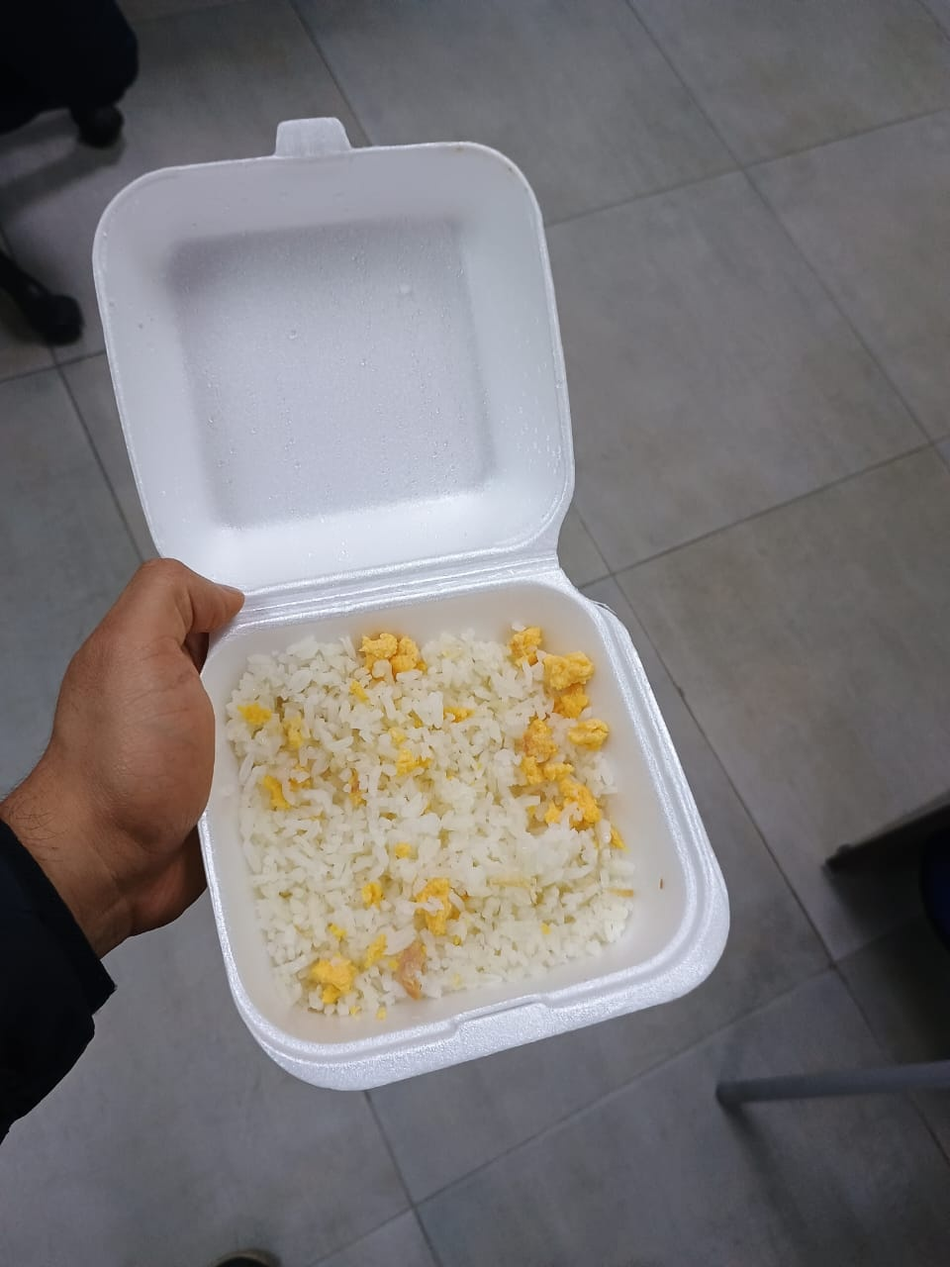Ordinario: (92, 115, 731, 1092)
